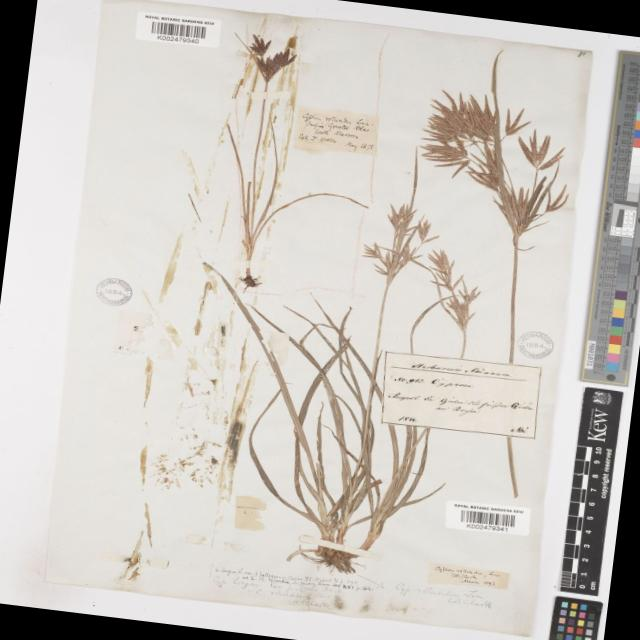cyperus: (401, 81, 584, 238), (350, 200, 498, 330), (228, 28, 306, 88)
